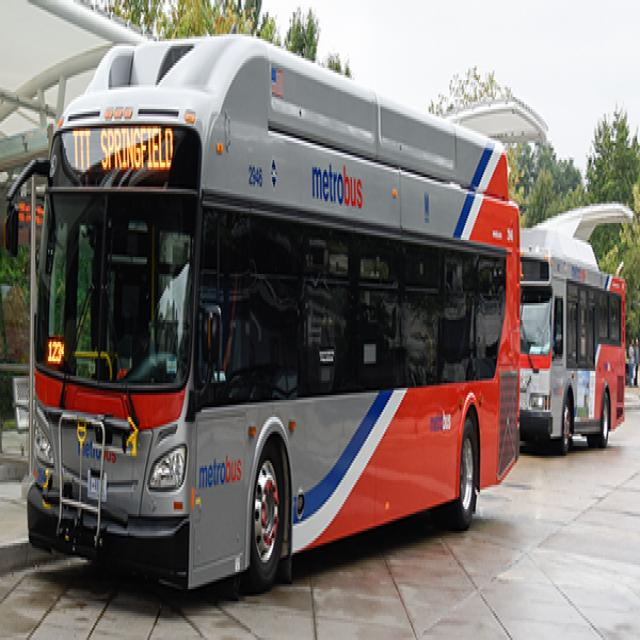bus: (38, 9, 514, 596), (517, 228, 636, 475)
